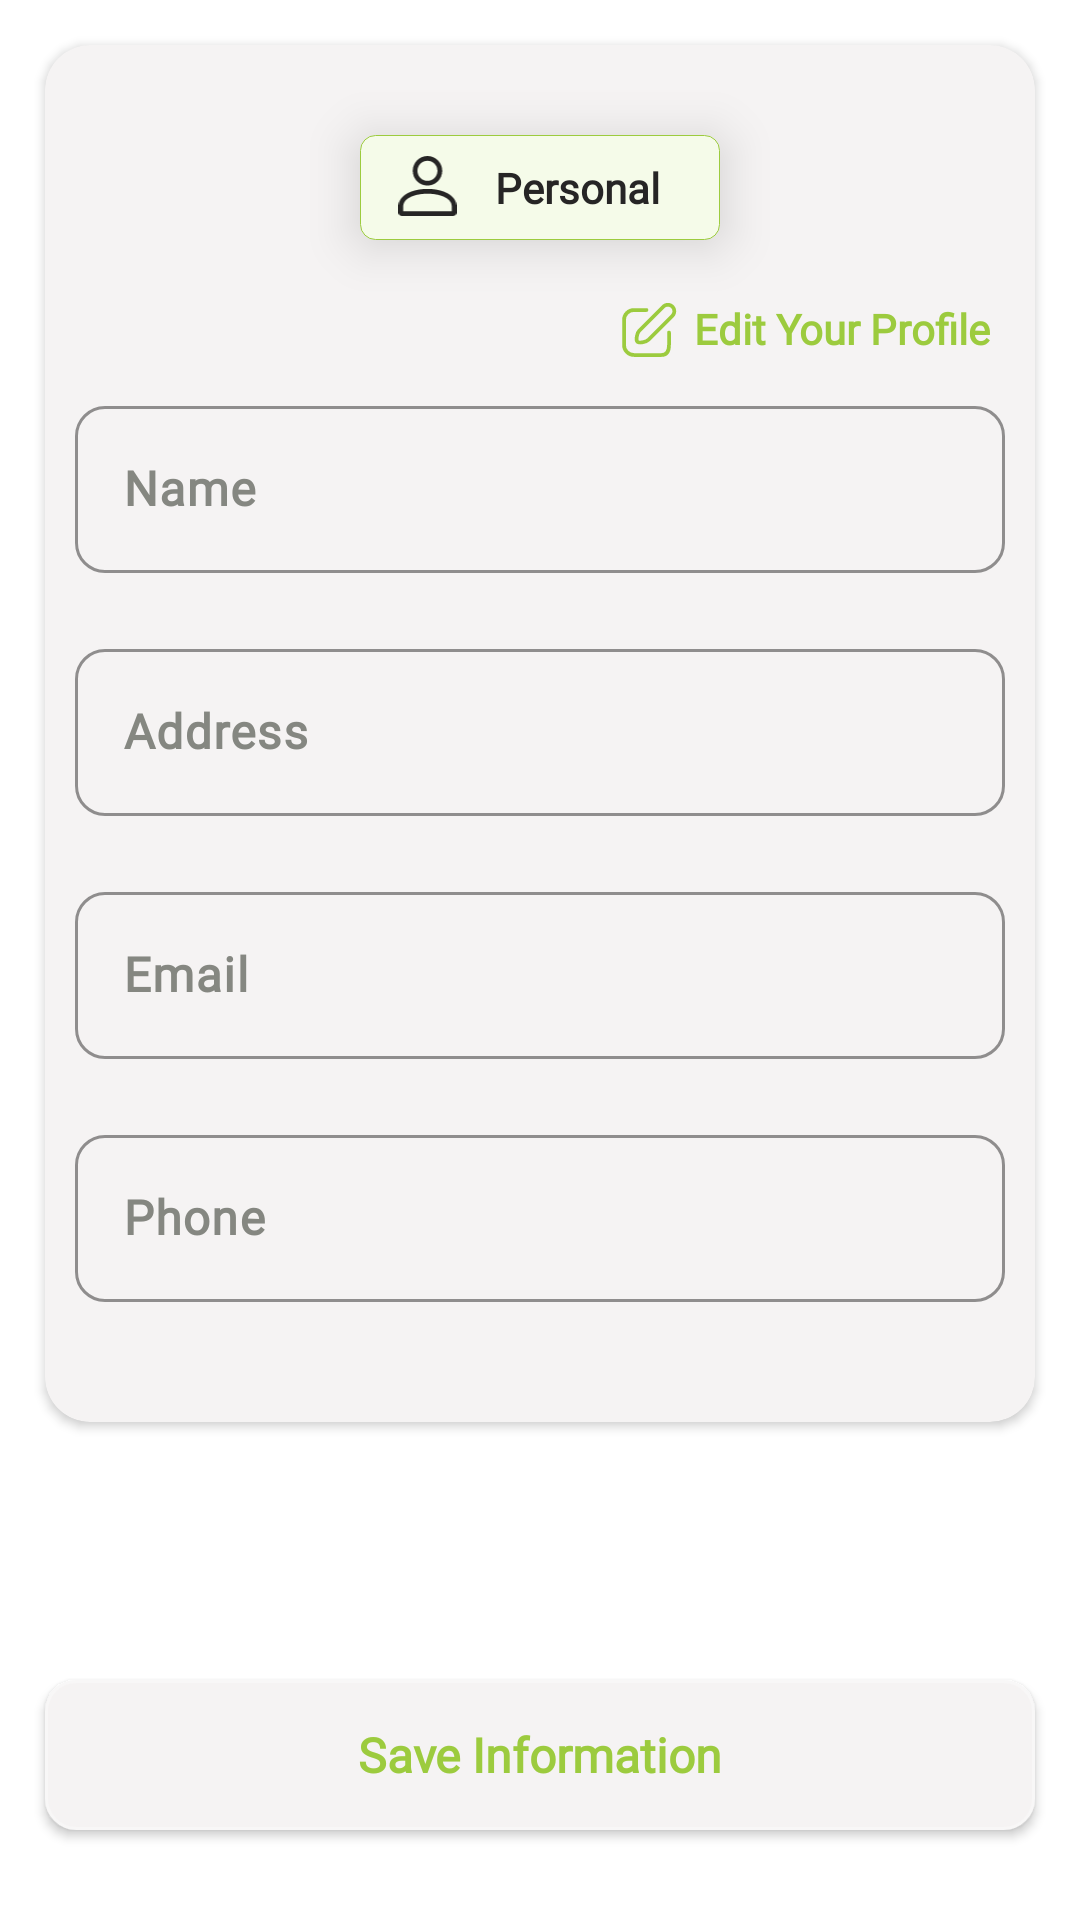

Icons on this 1080 × 1920 Android screen, each with its box as (x1, y1, x2, y2):
user: (398, 156, 457, 216)
